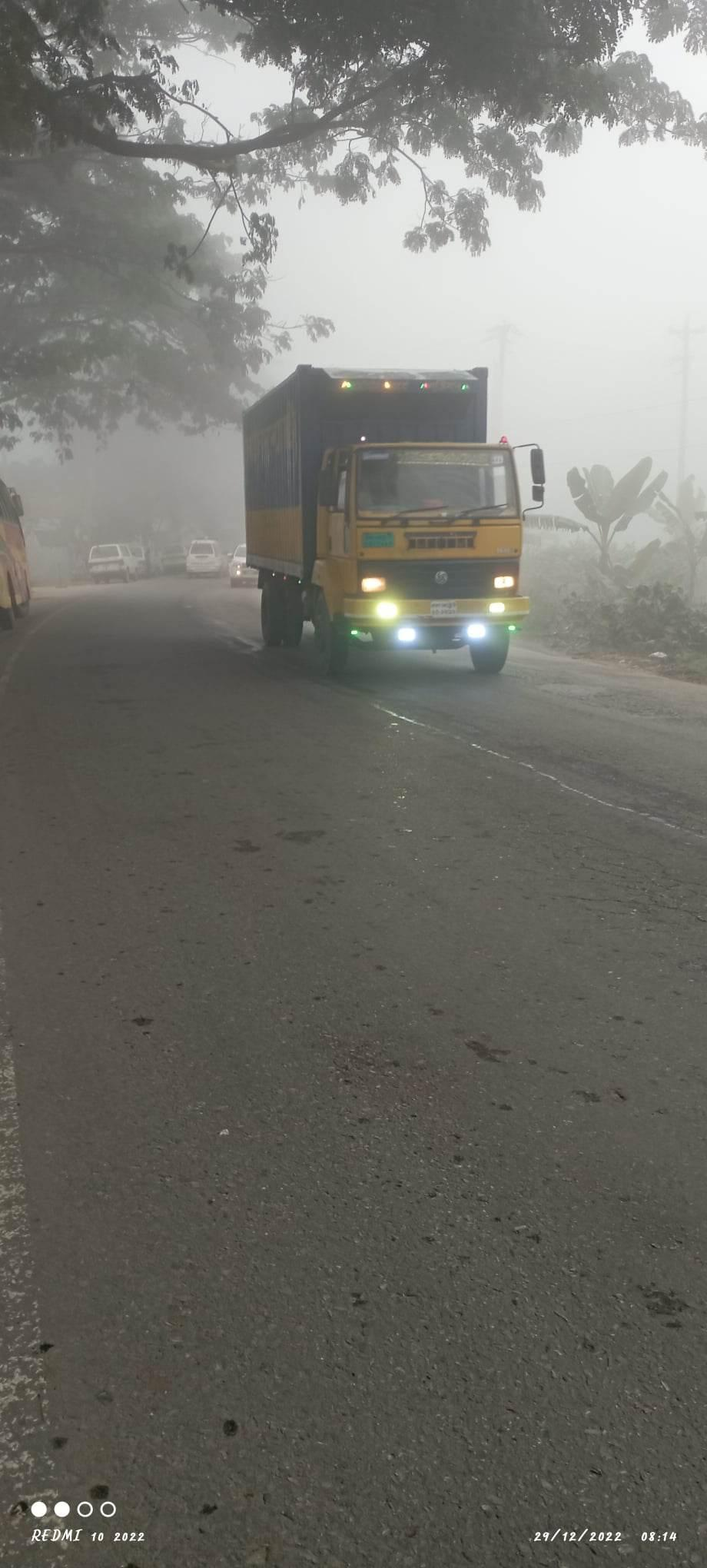Car: (70, 527, 154, 589), (171, 520, 231, 593)
Truck: (176, 342, 602, 746)
